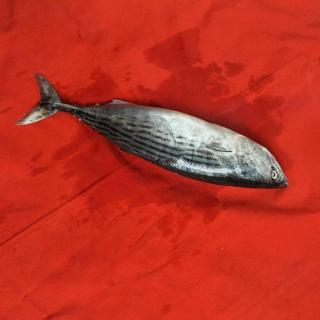Ikan: (18, 73, 296, 216)
